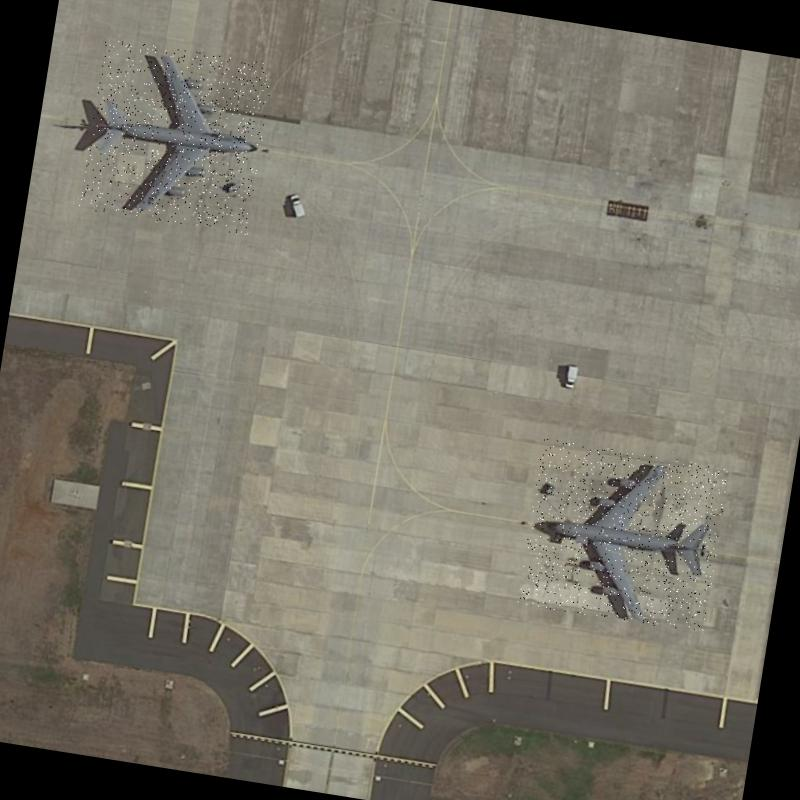A14: (517, 438, 730, 633), (78, 37, 274, 235)
